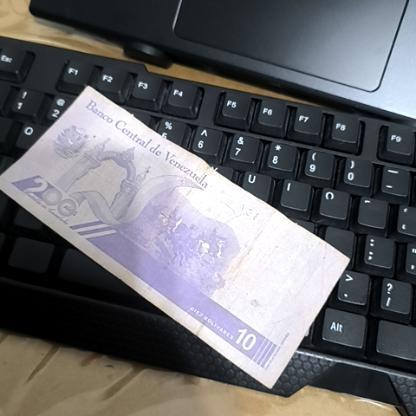ten-back-vef: (0, 84, 354, 392)
